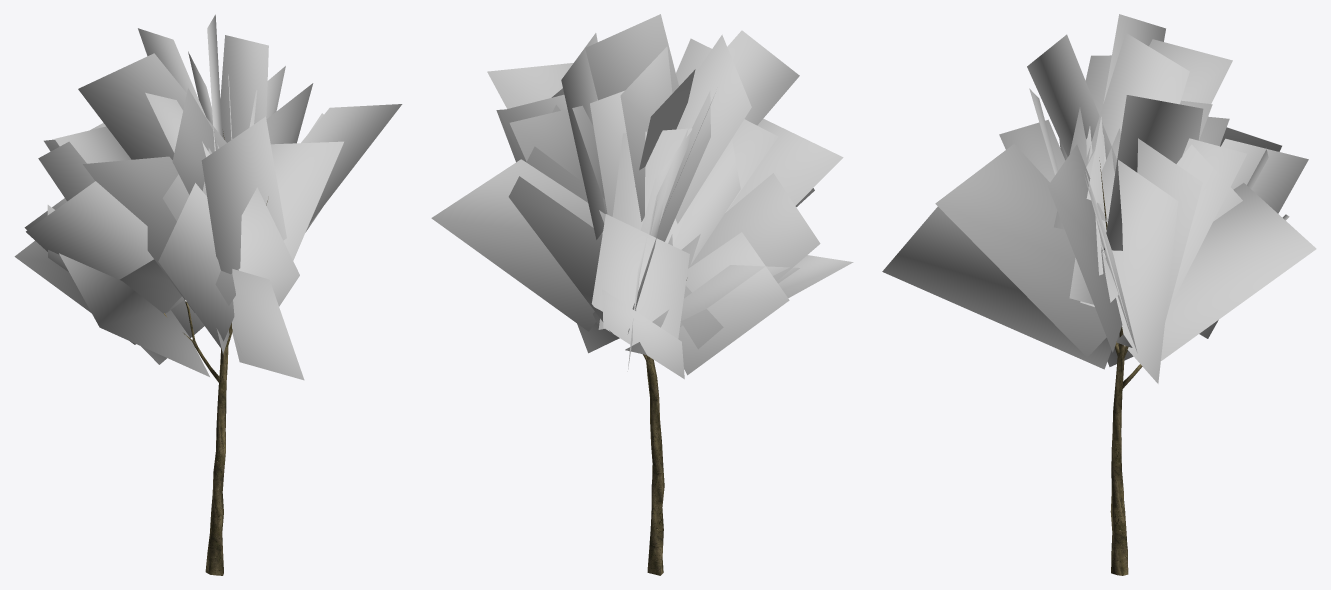
File: Prop_Tree_02.FBX
3 views of the same model, side by side, from view 1: azimuth 30°, elevation 25°; view 2: azimuth 150°, elevation 25°; view 3: azimuth 270°, elevation 25° (orthographic). The views are drawn at different scales.
Parts seen in each view (by area): view 1: 823; view 2: 823; view 3: 823.
Part boxes in pixels (left/top/right/bottom): 823: left=14, top=14, right=402, bottom=575; 823: left=431, top=14, right=853, bottom=575; 823: left=882, top=14, right=1316, bottom=575.
Bounding box in the file's own units: 508 × 754 × 553.
